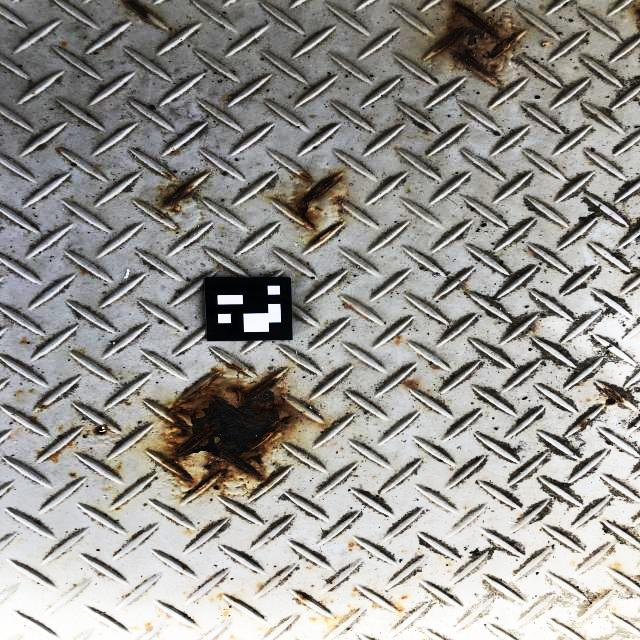Corrosion: (154, 368, 304, 495), (422, 0, 526, 88), (287, 165, 342, 229), (150, 169, 211, 215), (312, 604, 358, 630), (117, 0, 151, 22), (313, 222, 341, 245), (603, 386, 624, 407), (225, 362, 245, 371), (394, 600, 406, 613), (295, 591, 309, 602), (404, 380, 417, 388), (578, 419, 588, 429), (400, 594, 408, 601), (348, 541, 353, 551), (222, 610, 229, 617)
